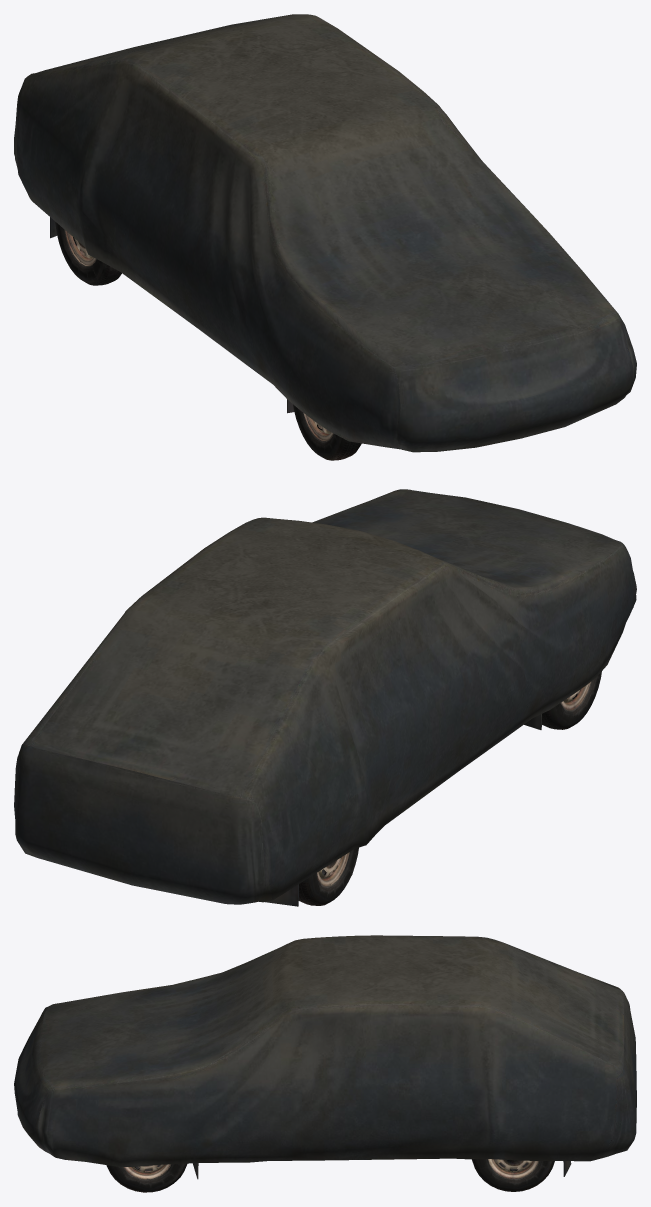
File: carro_coberto.glb
The picture shows the model from 3 angles, top to bottom: view 1: azimuth 30°, elevation 25°; view 2: azimuth 150°, elevation 25°; view 3: azimuth 270°, elevation 25°; orthographic projection. The views are drawn at different scales.
Parts seen in each view (by area): view 1: carro_coberto; view 2: carro_coberto; view 3: carro_coberto.
Boxes of the visible parts, x1,y1,x2,y2 form: carro_coberto: (14,14,636,460); carro_coberto: (14,489,636,906); carro_coberto: (14,935,636,1192).
Size of the model in its own units: 1.79 by 1.41 by 4.38.
2 materials, 2 textured.
